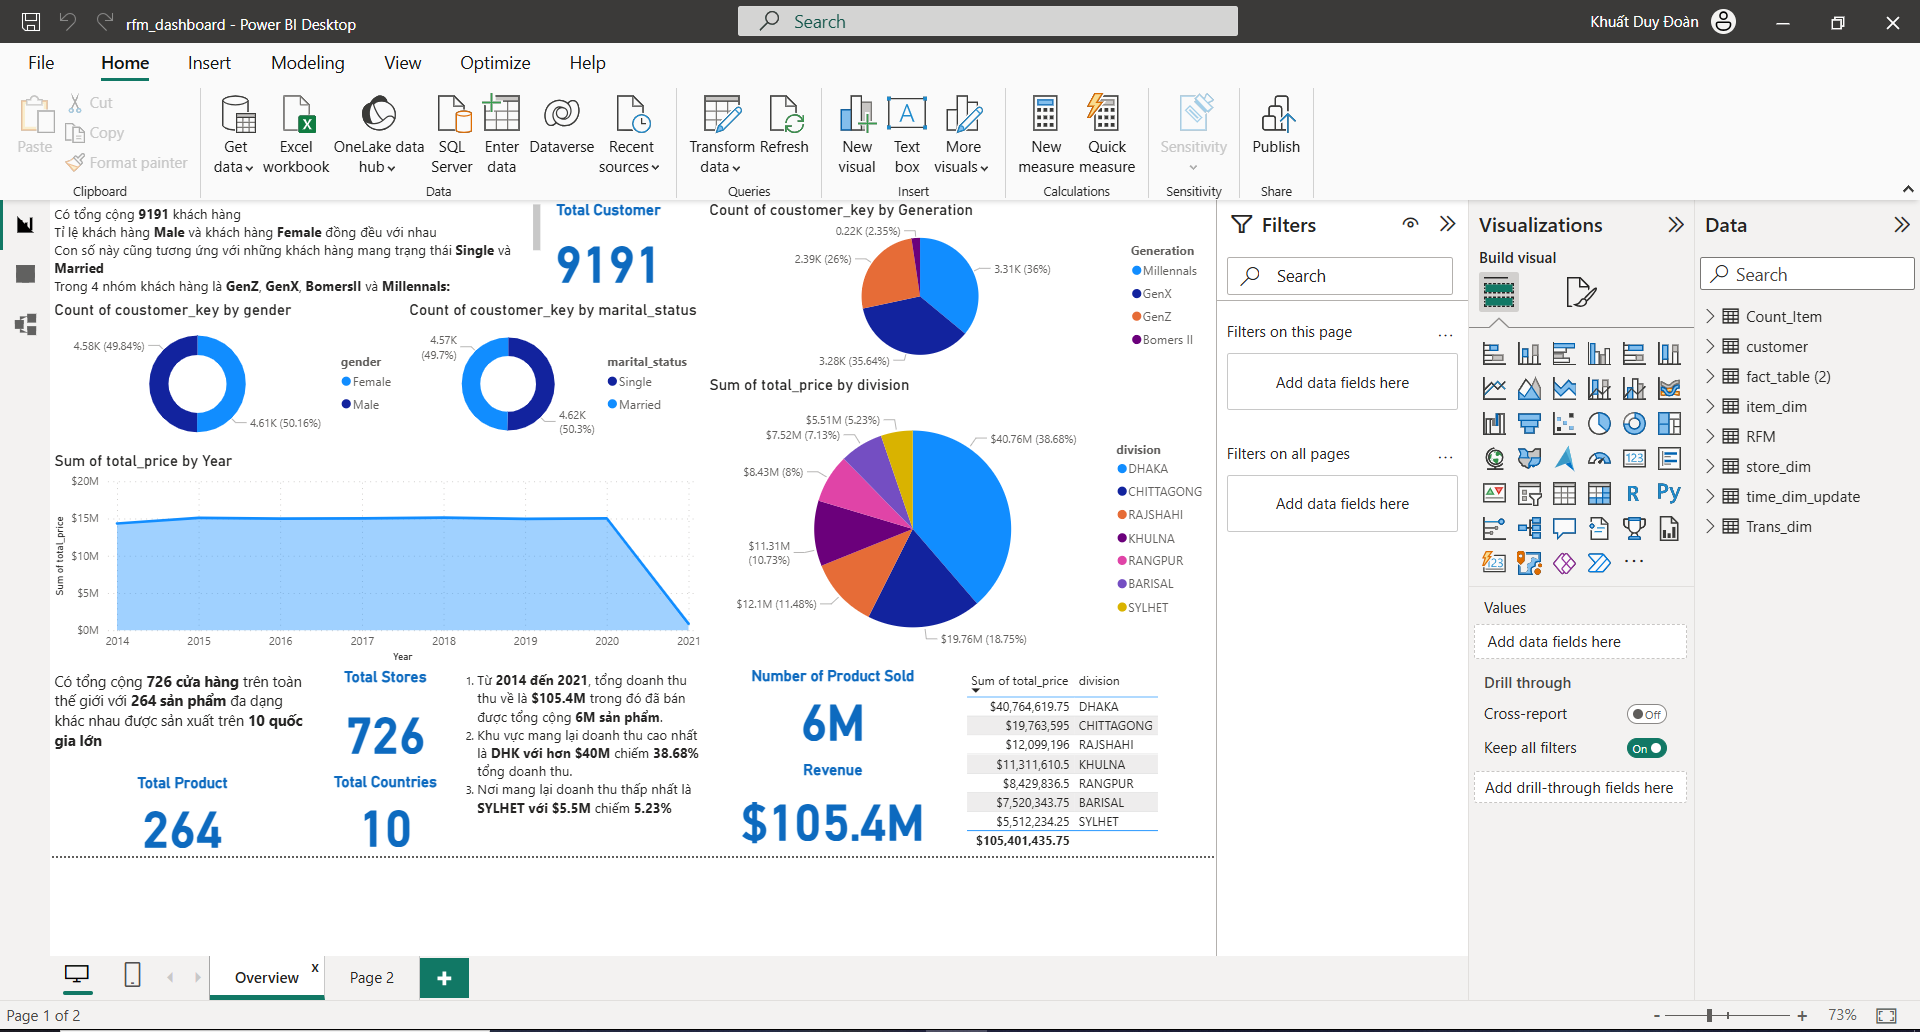

The page's visual inventory and layout, read from the dashboard file:
{"tool":"powerbi","page":{"name":"Overview","canvas":[1280,720],"ordinal":0},"visuals":[{"type":"card","title":"Total Customer","fields":{"Values":["Count(customer.coustomer_key)"]},"box":[543.2,0,139.5,110],"z":0},{"type":"pieChart","fields":{"Category":["customer.Generaytion"],"Y":["Count(customer.coustomer_key)"]},"box":[719.3,0,560.7,192.7],"z":1000},{"type":"donutChart","fields":{"Category":["customer.gender"],"Y":["Count(customer.coustomer_key)"]},"box":[0,110,389.4,165.5],"z":2000},{"type":"donutChart","fields":{"Category":["customer.marital_status"],"Y":["Count(customer.coustomer_key)"]},"box":[389.4,110,330,165.5],"z":3000},{"type":"card","title":"Revenue","fields":{"Values":["Sum(fact_table (2).total_price)"]},"box":[719.3,615.5,280.8,104.8],"z":4000},{"type":"tableEx","fields":{"Values":["Sum(fact_table (2).total_price)","store_dim.division"]},"box":[1000.2,511.6,279.8,207.7],"z":5000},{"type":"textbox","box":[0,0,543.2,110],"z":6000},{"type":"textbox","box":[0,512,291,116.8],"z":7000},{"type":"card","title":"Total Stores","fields":{"Values":["Count(store_dim.store_key)"]},"box":[291,513,154.8,116.8],"z":8000},{"type":"card","title":"Total Product","fields":{"Values":["Count(item_dim.item_key)"]},"box":[0,629.8,291,90.5],"z":9000},{"type":"card","title":"Total Countries","fields":{"Values":["Count(item_dim.man_country)"]},"box":[291,628.8,154.8,90.5],"z":10000},{"type":"areaChart","fields":{"Category":["time_dim_update.date.Variation.Date Hierarchy.Year"],"Y":["Sum(fact_table (2).total_price)"]},"box":[0,275.5,719.3,236.5],"z":11000},{"type":"card","title":"Number of Product Sold","fields":{"Values":["Sum(fact_table (2).quantity)"]},"box":[719.3,511.6,280.8,91.4],"z":12000},{"type":"textbox","box":[445.8,512,273.5,207.3],"z":13000},{"type":"pieChart","fields":{"Category":["store_dim.division"],"Y":["Sum(fact_table (2).total_price)"]},"box":[719.3,192.7,560.7,319.3],"z":14000}]}

Visuals, with their boxes on the page's 1280x720 design canvas (x1, y1, x2, y2). These are canvas units, not pixel positions in the 1920x1032 screenshot, which may show the page scaled, cropped or inside an application window:
"Total Customer" card: (543, 0, 683, 110)
pieChart - customer.Generaytion x Count(customer.coustomer_key): (719, 0, 1280, 193)
donutChart - customer.gender x Count(customer.coustomer_key): (0, 110, 389, 276)
donutChart - customer.marital_status x Count(customer.coustomer_key): (389, 110, 719, 276)
"Revenue" card: (719, 616, 1000, 720)
tableEx - Sum(fact_table (2).total_price) x store_dim.division: (1000, 512, 1280, 719)
textbox: (0, 0, 543, 110)
textbox: (0, 512, 291, 629)
"Total Stores" card: (291, 513, 446, 630)
"Total Product" card: (0, 630, 291, 720)
"Total Countries" card: (291, 629, 446, 719)
areaChart - time_dim_update.date.Variation.Date Hierarchy.Year x Sum(fact_table (2).total_price): (0, 276, 719, 512)
"Number of Product Sold" card: (719, 512, 1000, 603)
textbox: (446, 512, 719, 719)
pieChart - store_dim.division x Sum(fact_table (2).total_price): (719, 193, 1280, 512)
